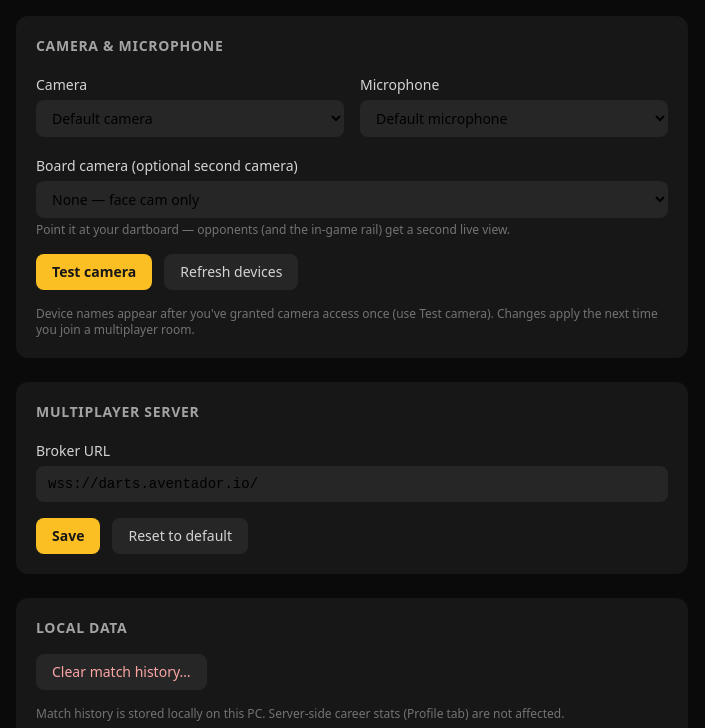
Test: Settings broker URL › saves a valid URL into the store
The width and height of the screenshot is (705, 728).
Replace the text in the field labelled "Broker URL" with "wss://my.broker/" at (352, 484), box [36,466,668,502]
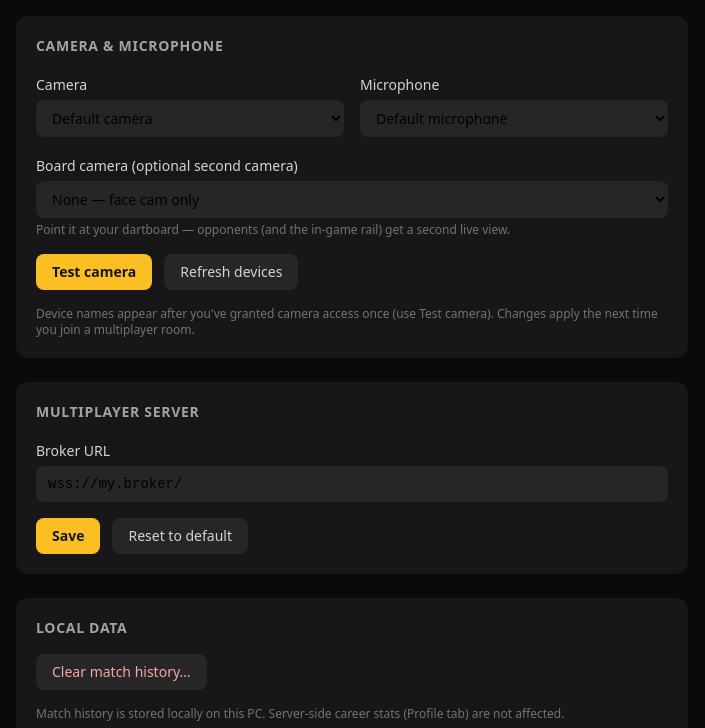
Click the button "Save".
click(68, 536)  # box [36,518,100,554]
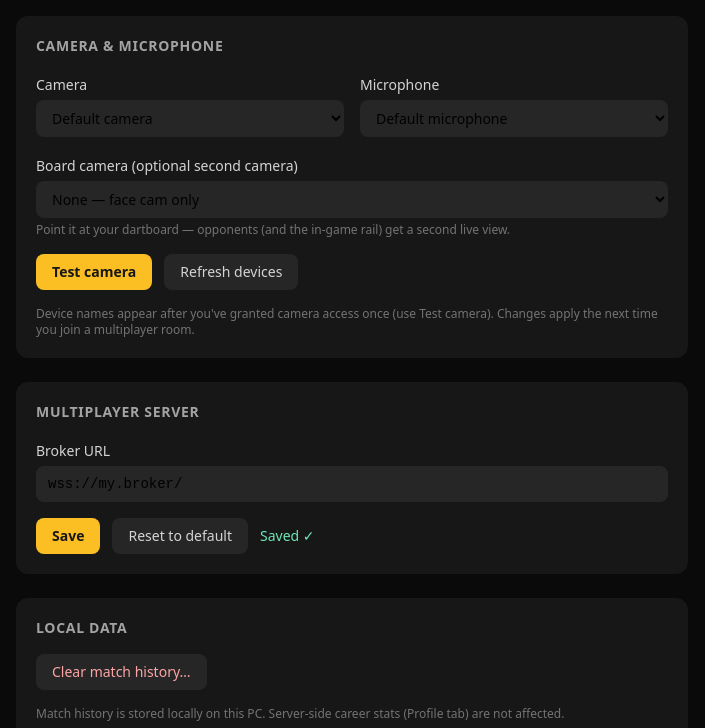
Result: the message shows "Saved" at [260,526,314,545]
